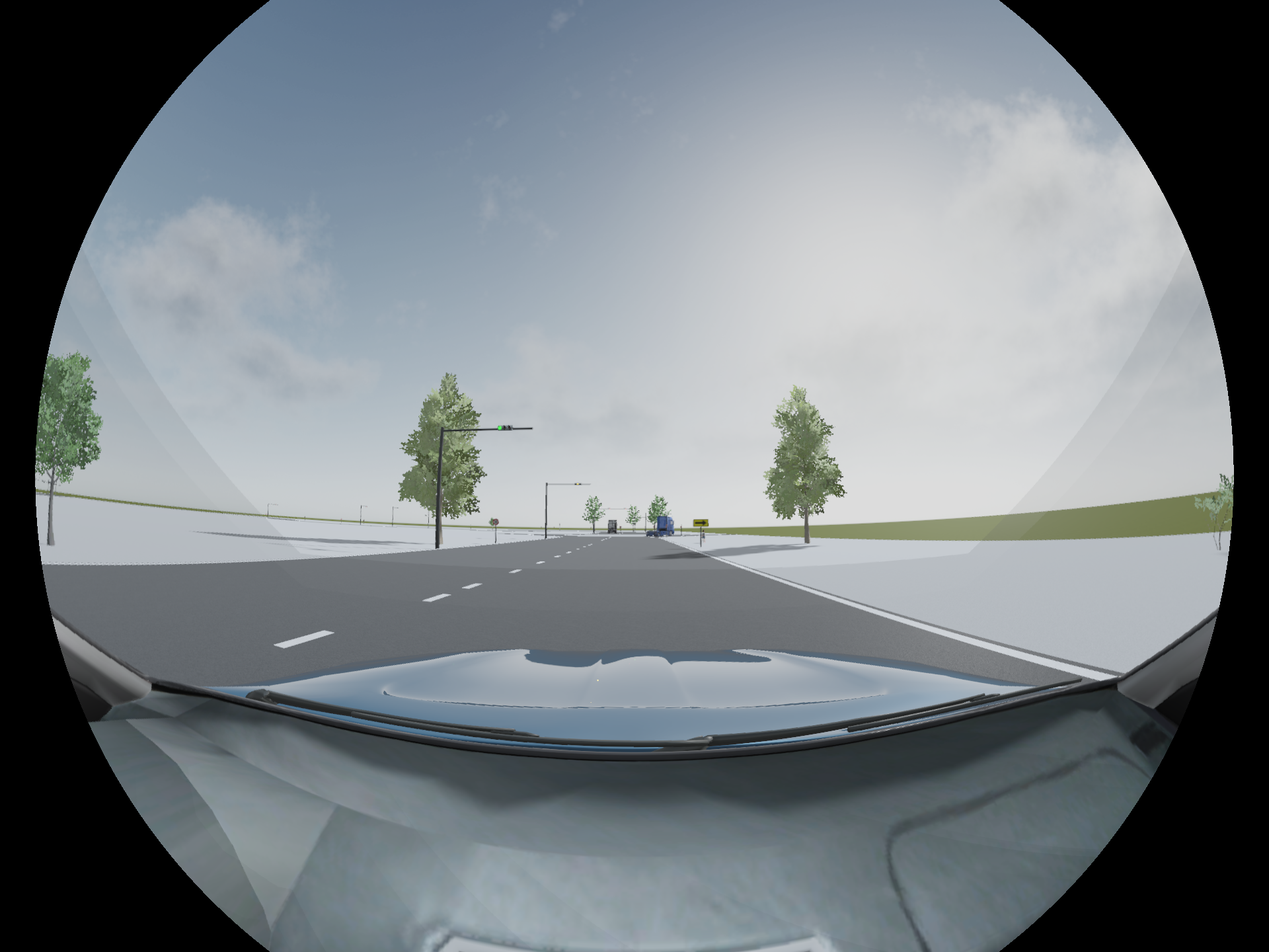Green Light: (497, 424, 513, 430)
